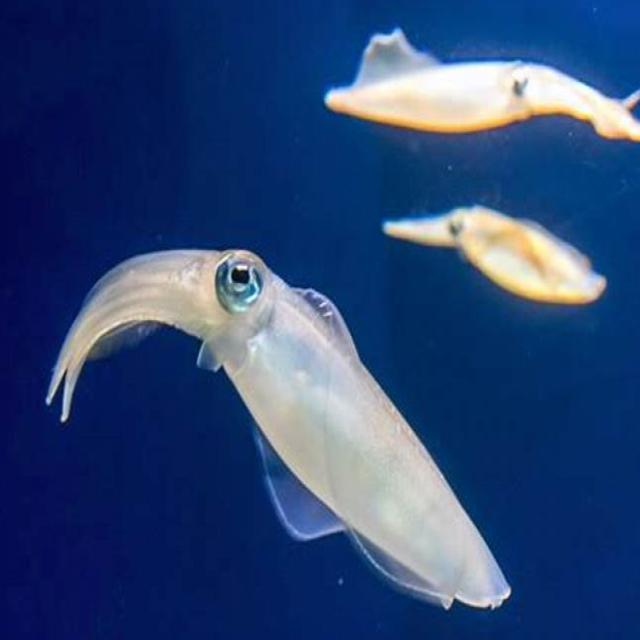SQUID: (24, 233, 524, 626), (306, 32, 640, 158), (368, 194, 615, 326)
